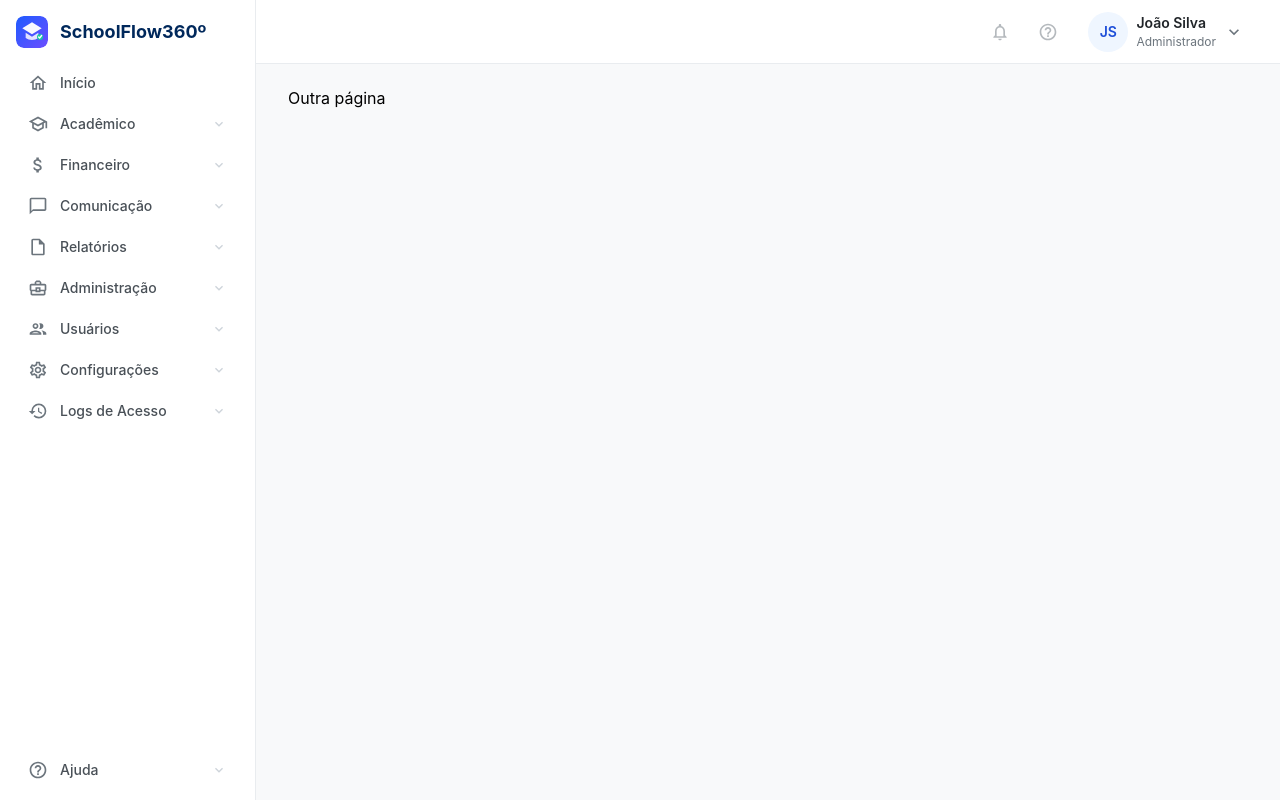
Scenario: AppShell › navigates to a page of another group, showing its group and page in the breadcrumb
The image size is (1280, 800).
Click the button "Financeiro" at (128, 164), box [16,146,239,183]
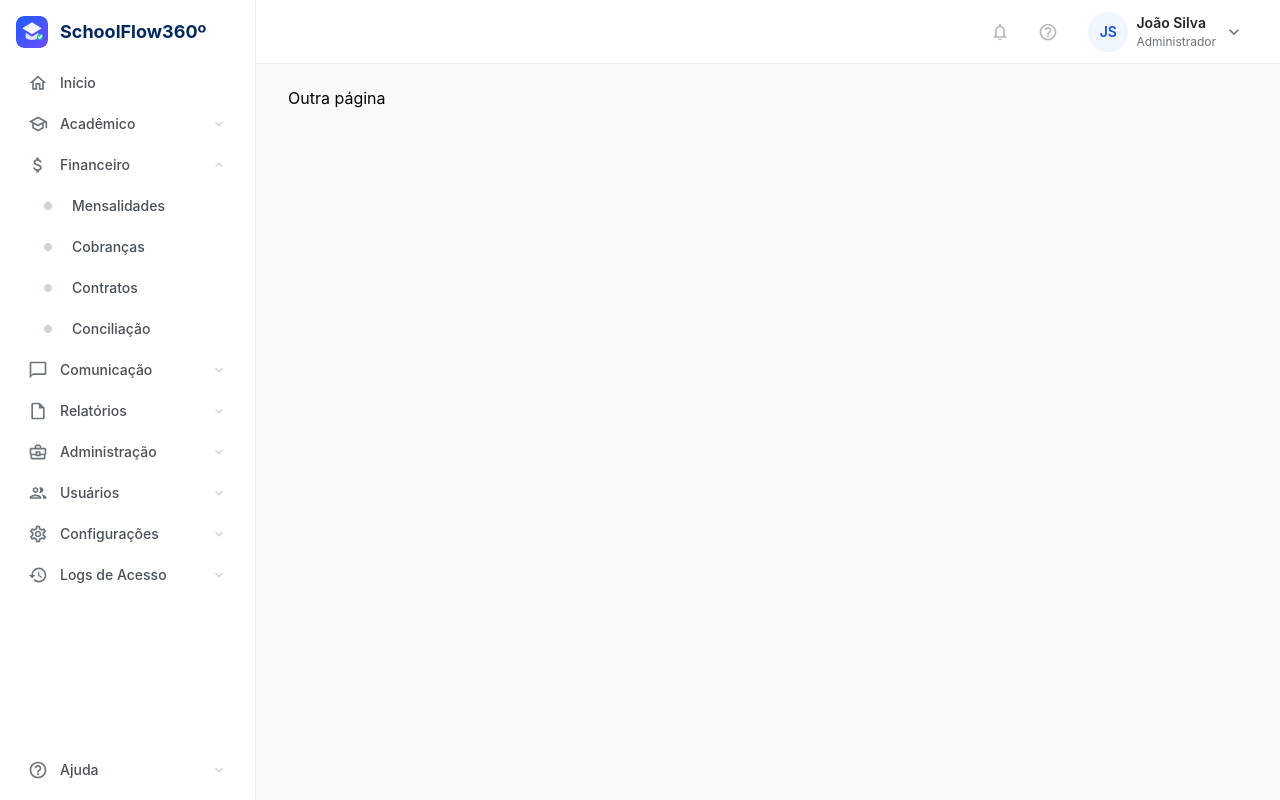
Click the button "Mensalidades" at (132, 206), box [24,187,239,224]
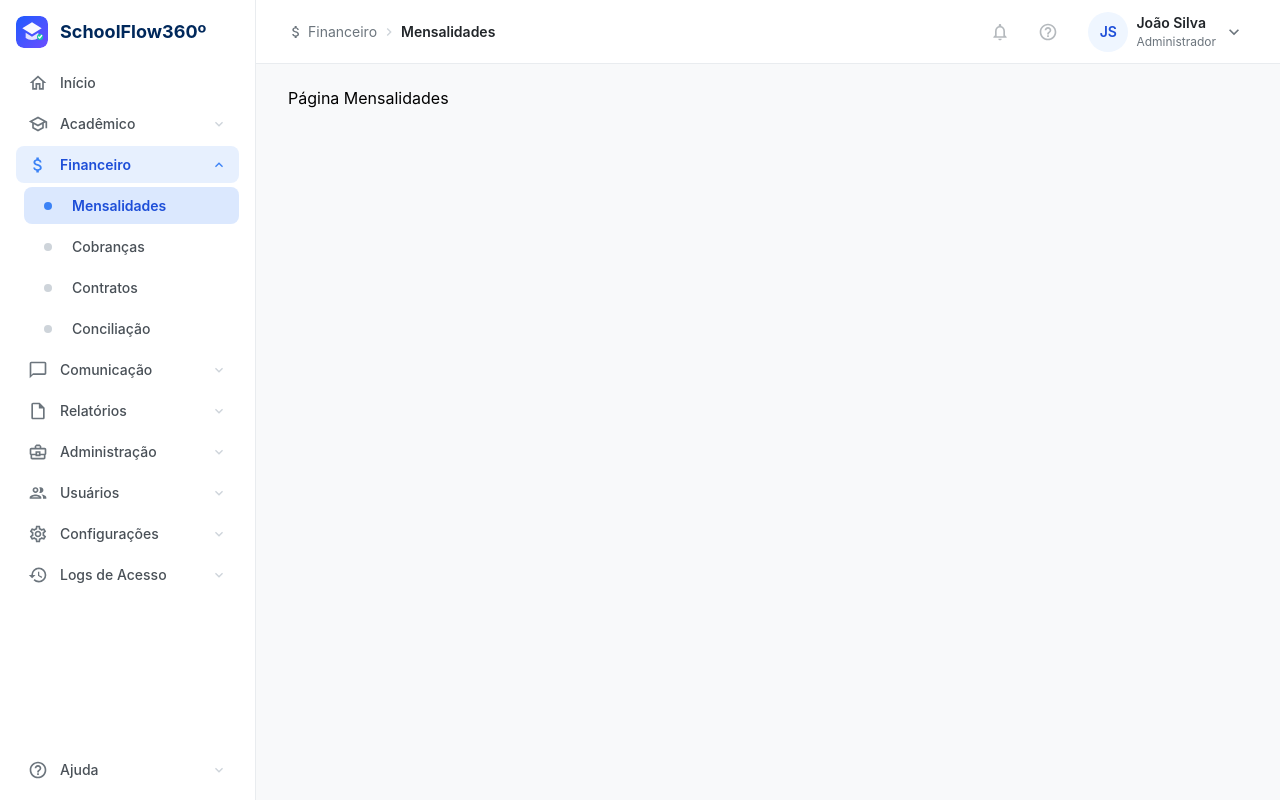
Expected: the text "Página Mensalidades" is shown, [288,88,449,108]
Expected: the 1st text "Financeiro" is shown, [308,21,377,42]
